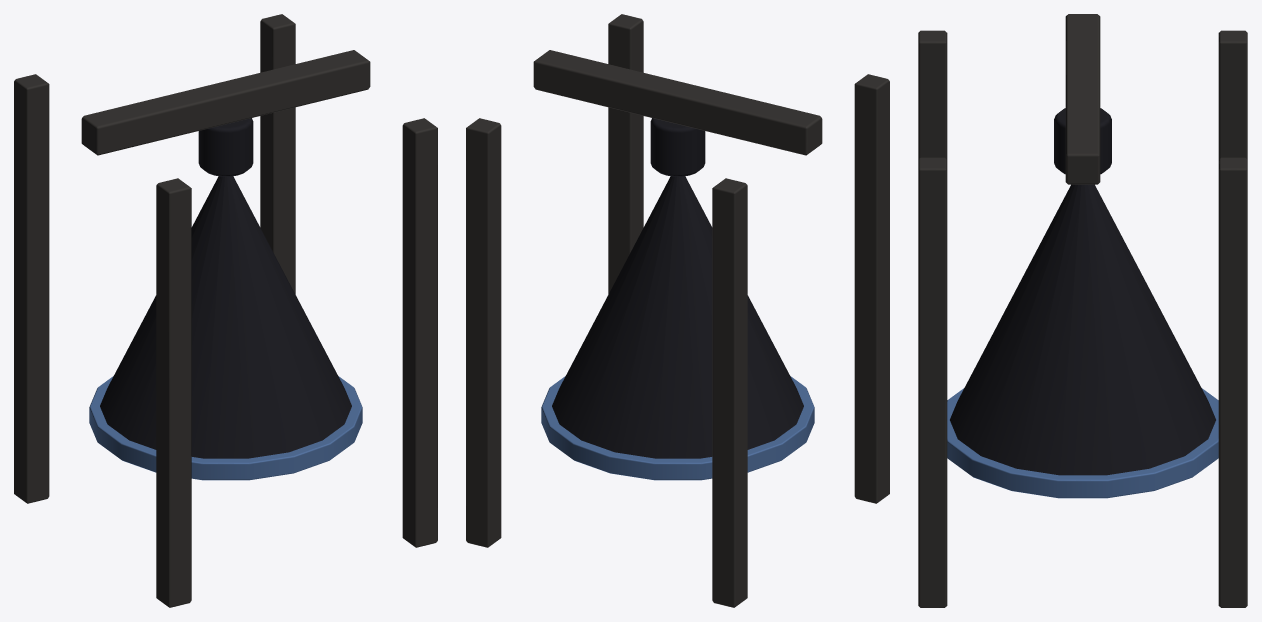
Rendered from great-bell.fb8f6913.glb.
The picture shows the model from 3 angles, left to right: view 1: azimuth 30°, elevation 25°; view 2: azimuth 150°, elevation 25°; view 3: azimuth 270°, elevation 25°; orthographic projection. The views are drawn at different scales.
Visible parts, largest first — view 1: body, swing; view 2: body, swing; view 3: swing, body.
Boxes of the visible parts, x1,y1,x2,y2 form: body: (14,14,437,607); swing: (89,118,362,480); body: (466,14,889,607); swing: (541,118,814,480); swing: (947,108,1218,498); body: (918,14,1247,607).
Bounding box in the file's own units: 2.9 × 4.35 × 2.85.
